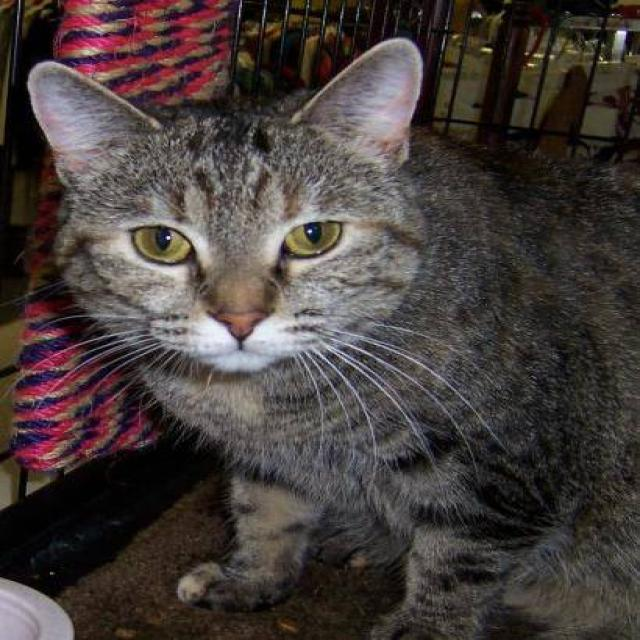cat: (21, 36, 638, 639)
